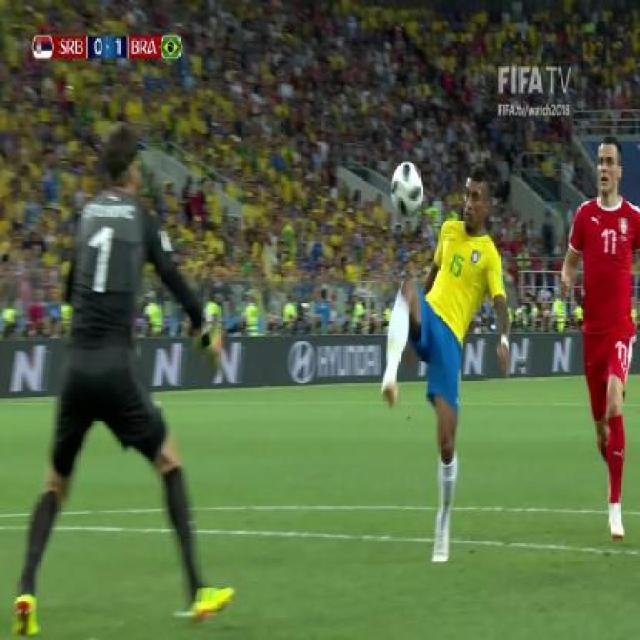ball: (389, 155, 426, 223)
player: (0, 116, 229, 639), (378, 160, 523, 569), (567, 133, 640, 547)
